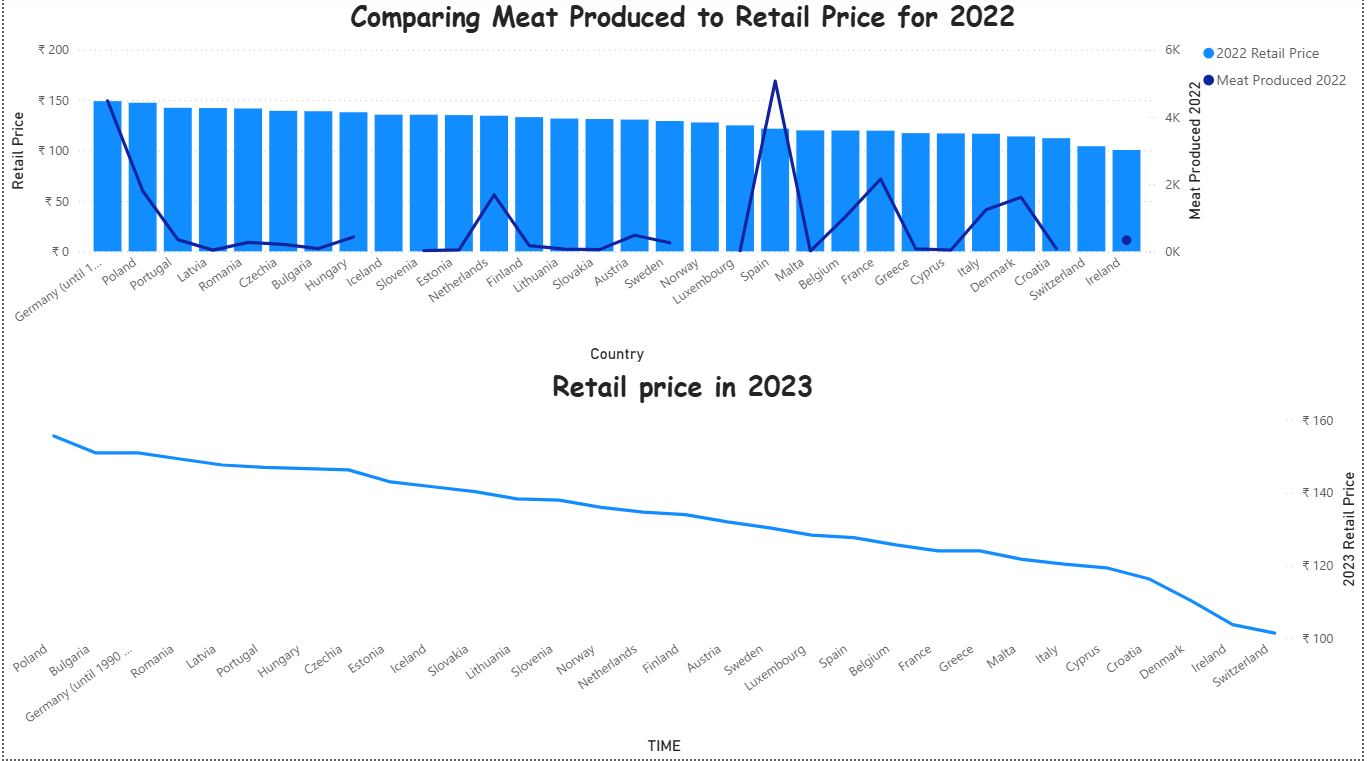

Layout of this report page (visuals, bound fields, positions):
{"tool":"powerbi","page":{"name":"Production vs Retail Price 2022","canvas":[1280,720],"ordinal":4},"visuals":[{"type":"lineClusteredColumnComboChart","title":"Comparing Meat Produced to Retail Price for 2022","fields":{"Y2":["Sum(Pigmeat prod tonnes.2022)"],"Y":["Pork Retail Prices.2022 Retail Price"],"Category":["Pork Retail Prices.TIME"]},"box":[0,0,1279.8,349.7],"z":0},{"type":"lineChart","title":"Retail price in 2023","fields":{"Category":["Pork Retail Prices.TIME"],"Y2":["Pork Retail Prices.2023 Retail Price"]},"box":[0,349.8,1279.9,369.9],"z":1000}]}

Visuals, with their boxes in screenshot pixels (x1, y1, x2, y2), scaled from the page's 1280x720 canvas onto the 1368x761 screenshot:
"Comparing Meat Produced to Retail Price for 2022" lineClusteredColumnComboChart: BBox(0, 0, 1367, 370)
"Retail price in 2023" lineChart: BBox(0, 370, 1367, 760)
